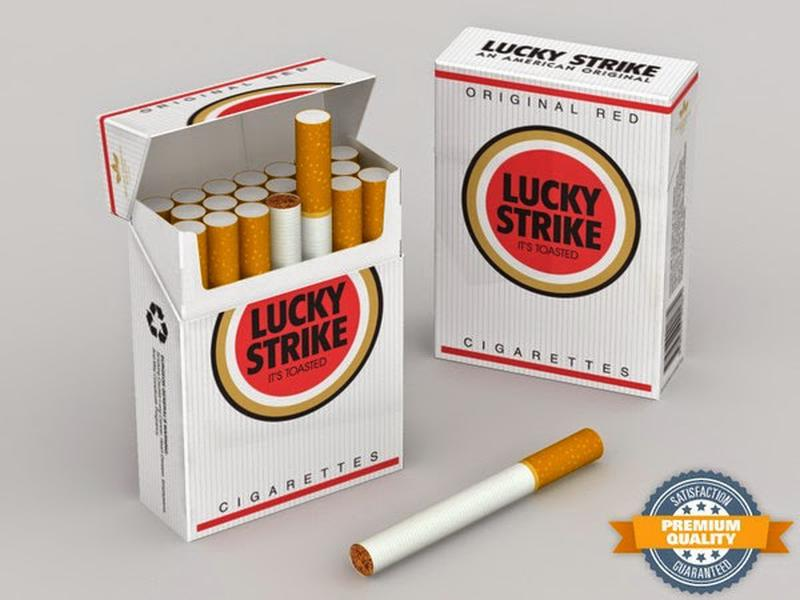lucky_strike_red: (435, 84, 667, 362), (185, 249, 398, 488)
